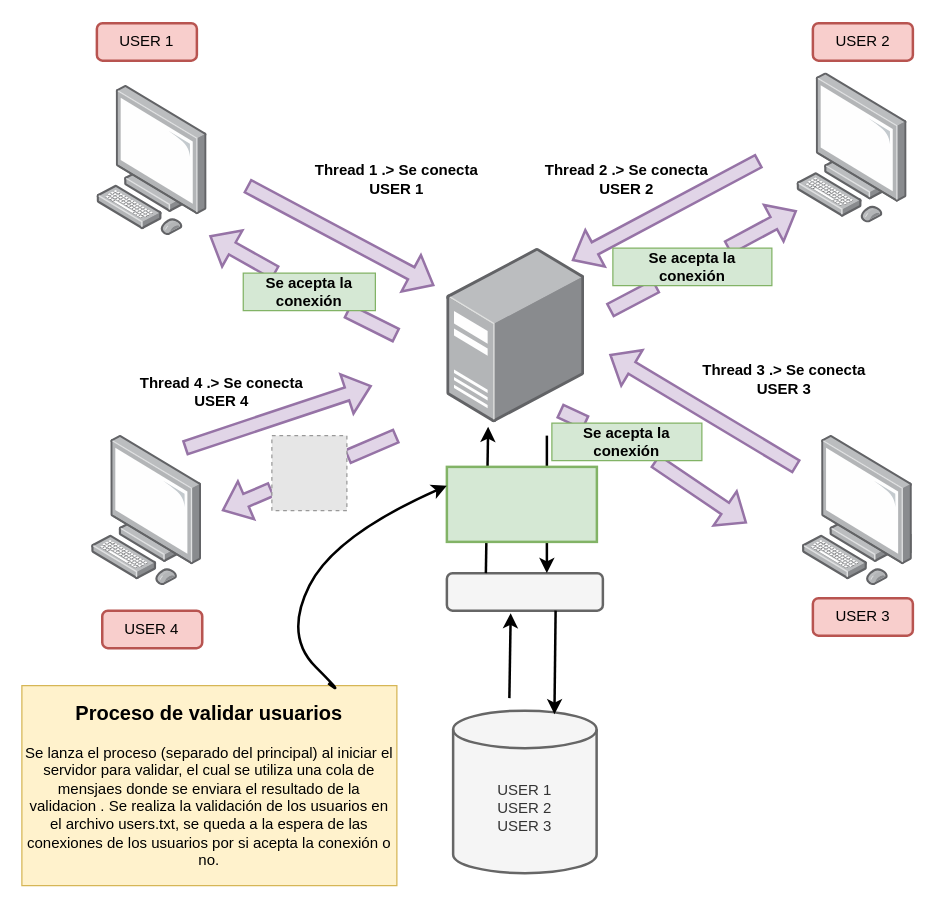
This 936x908 diagram has some shape labels left out. Grey dashed boxes stand in for pictures. The box of each missing label's shape, as (x1, y1, x2, y2) in pixels:
IPC: (445, 465, 598, 542)
Validador: (445, 571, 604, 611)
